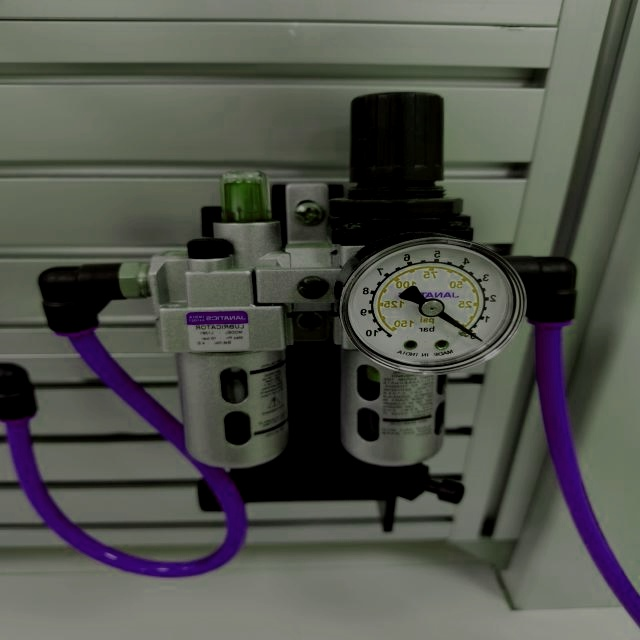FRL unit: (32, 82, 588, 518)
push button: (338, 231, 528, 375)
